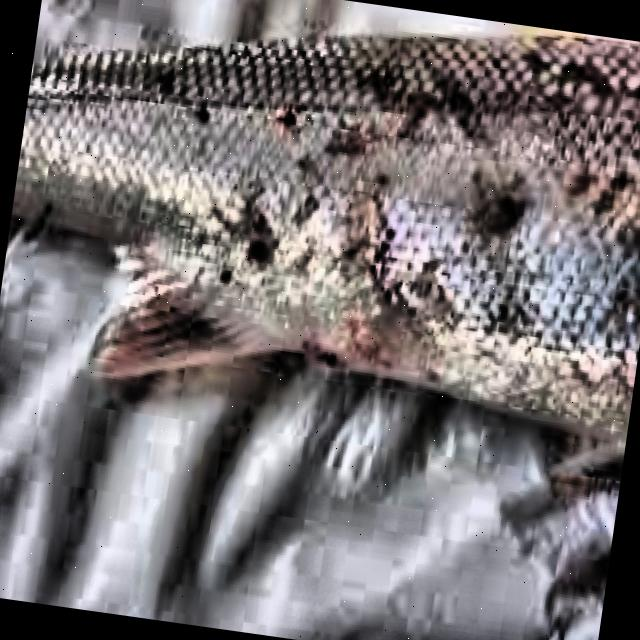mild_red: (12, 35, 640, 438)
